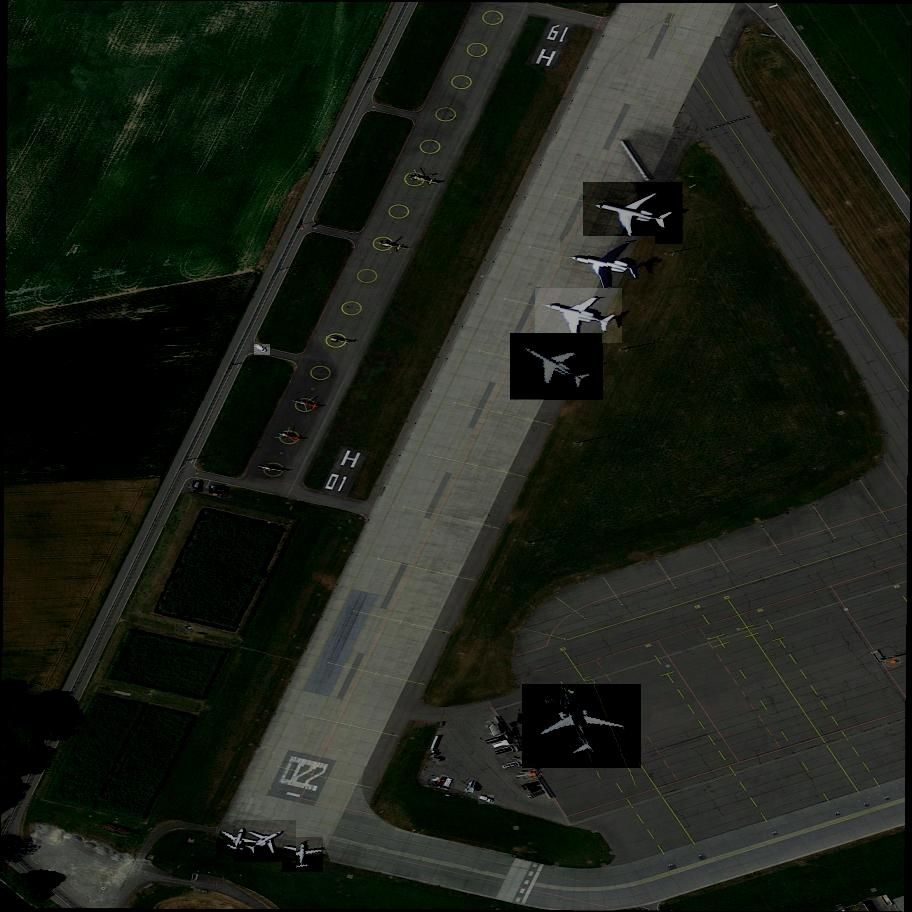large-vehicle: (209, 486, 225, 494)
plane: (523, 679, 640, 770), (510, 330, 603, 406), (584, 180, 683, 250), (561, 234, 655, 296), (535, 286, 623, 345), (234, 814, 296, 870), (216, 821, 263, 860), (279, 837, 327, 872)
small-vehicle: (254, 343, 271, 357), (478, 796, 495, 804), (194, 480, 203, 493)
